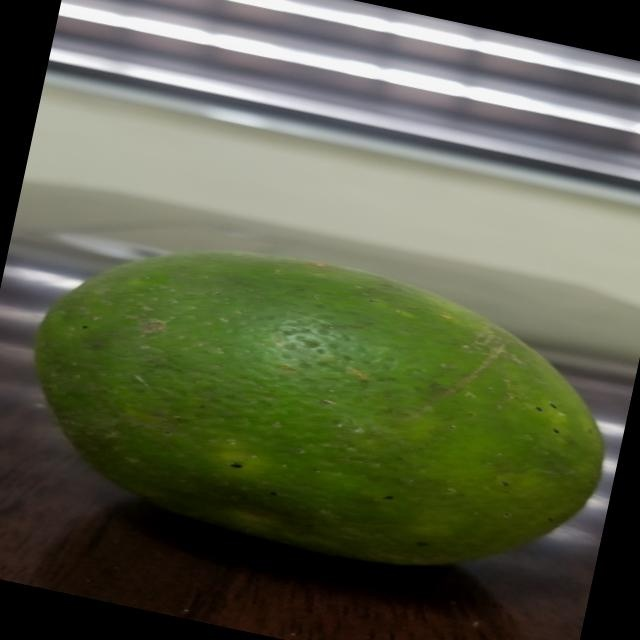agrume: (0, 182, 640, 617)
